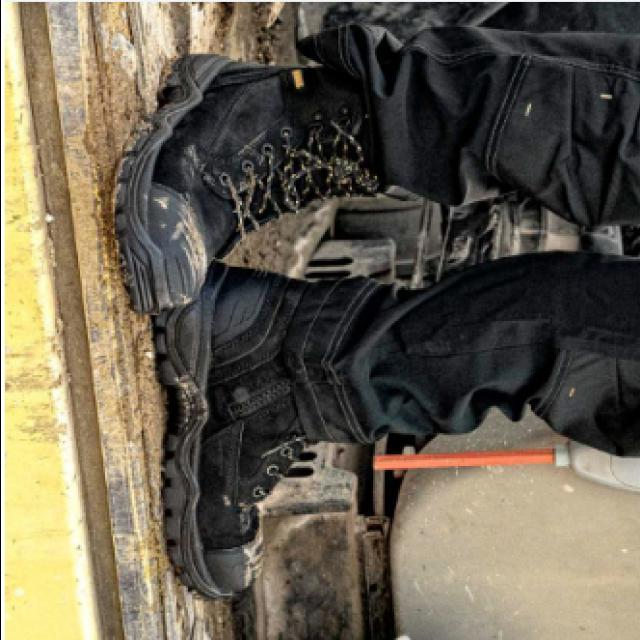shoes: (101, 42, 390, 608)
